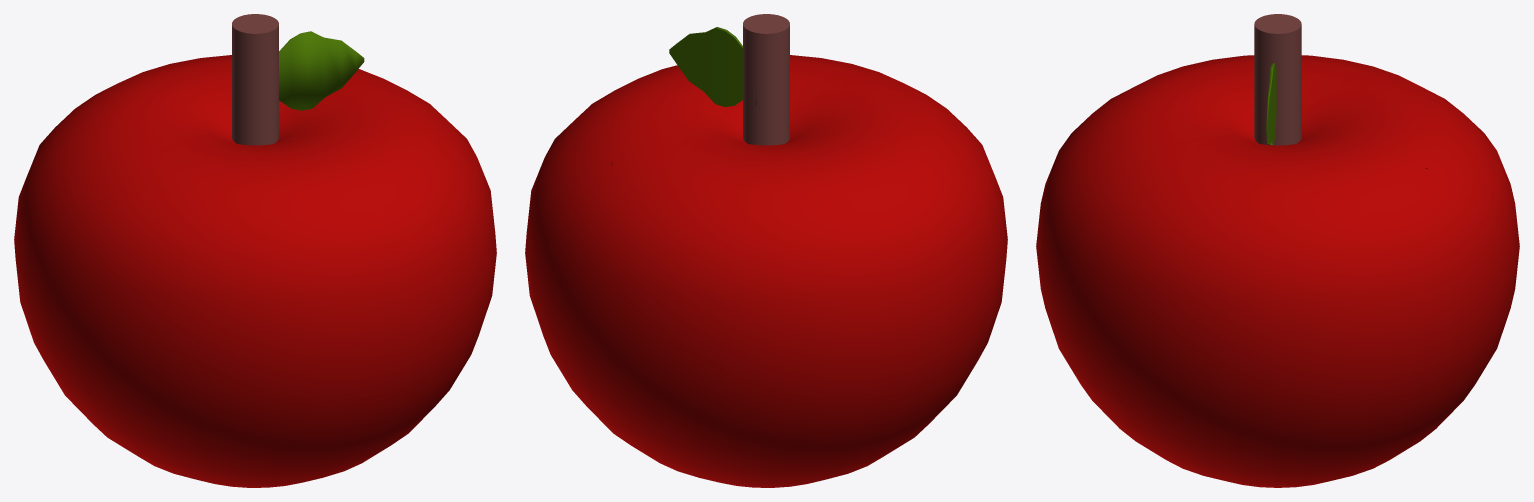
The model's file is apple.fbx.
3 views of the same model, side by side, from view 1: azimuth 30°, elevation 25°; view 2: azimuth 150°, elevation 25°; view 3: azimuth 270°, elevation 25° (orthographic).
Parts seen in each view (by area): view 1: apple; view 2: apple; view 3: apple.
Part boxes in pixels (x1,y1,x2,y2): apple: [14, 14, 496, 487]; apple: [525, 14, 1007, 487]; apple: [1036, 14, 1519, 487].
Bounding box in the file's own units: 49.24 × 49.6 × 49.24.
